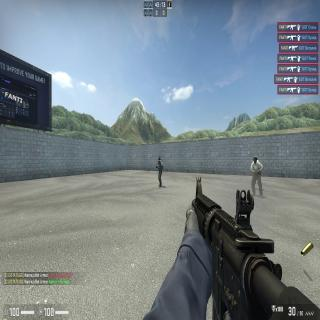CT-Body: (157, 156, 163, 188)
CT-Head: (158, 156, 161, 162)
T-Body: (253, 156, 260, 194)
T-Head: (253, 156, 257, 163)
